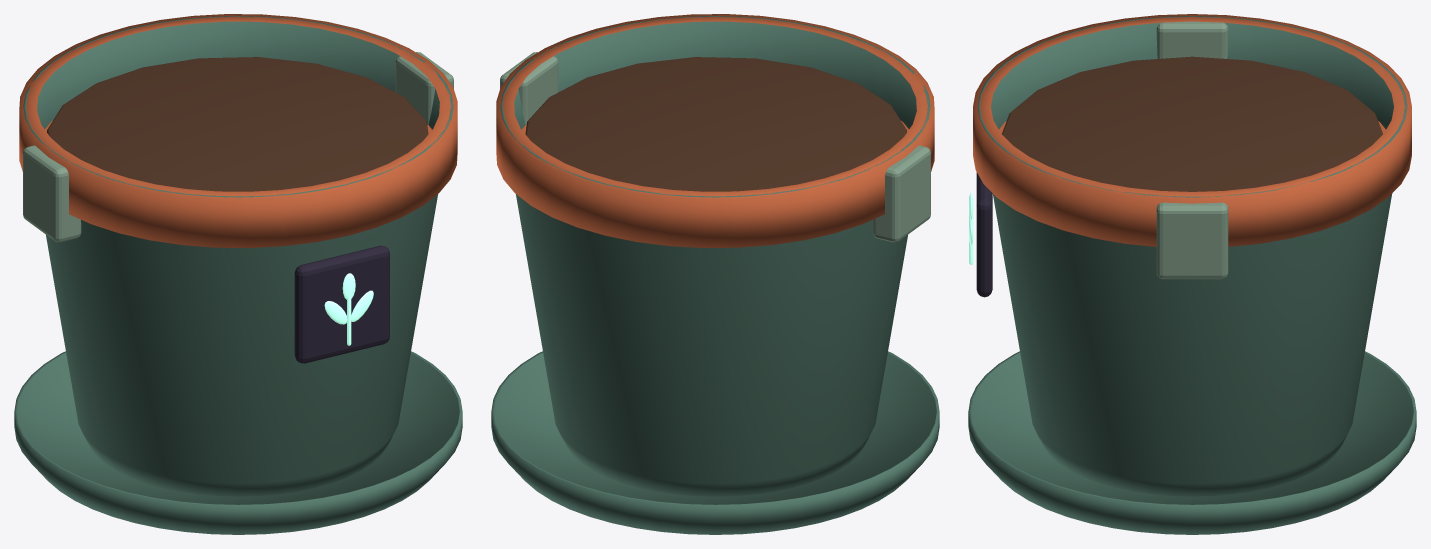
File: single_pot.glb
3 views of the same model, side by side, from view 1: azimuth 30°, elevation 25°; view 2: azimuth 150°, elevation 25°; view 3: azimuth 270°, elevation 25° (orthographic).
Visible parts, largest first — view 1: Hollow_teal_pot, Recessed_soil, Terracotta_rim, Separate_saucer, Crop_badge, Molded_handle, Molded_handle.001; view 2: Hollow_teal_pot, Recessed_soil, Terracotta_rim, Separate_saucer, Molded_handle, Molded_handle.001; view 3: Hollow_teal_pot, Recessed_soil, Terracotta_rim, Separate_saucer, Molded_handle.001, Molded_handle, Crop_badge.
Part boxes in pixels (left/top/right/bottom): Hollow_teal_pot: left=23, top=15, right=453, bottom=496; Recessed_soil: left=47, top=57, right=428, bottom=191; Terracotta_rim: left=19, top=14, right=457, bottom=247; Separate_saucer: left=14, top=351, right=462, bottom=534; Crop_badge: left=294, top=245, right=389, bottom=363; Molded_handle: left=23, top=145, right=81, bottom=242; Molded_handle.001: left=395, top=52, right=453, bottom=124; Hollow_teal_pot: left=500, top=15, right=930, bottom=496; Recessed_soil: left=525, top=57, right=906, bottom=191; Terracotta_rim: left=496, top=14, right=934, bottom=247; Separate_saucer: left=491, top=351, right=939, bottom=534; Molded_handle: left=872, top=145, right=930, bottom=242; Molded_handle.001: left=500, top=52, right=558, bottom=124; Hollow_teal_pot: left=977, top=16, right=1407, bottom=496; Recessed_soil: left=1002, top=56, right=1382, bottom=191; Terracotta_rim: left=973, top=14, right=1411, bottom=246; Separate_saucer: left=968, top=351, right=1416, bottom=534; Molded_handle.001: left=1156, top=202, right=1228, bottom=279; Molded_handle: left=1156, top=21, right=1228, bottom=58; Crop_badge: left=976, top=172, right=992, bottom=297.
Bounding box in the file's own units: 0.515 × 0.42 × 0.5.
